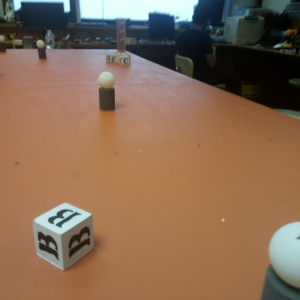blockA: (106, 54, 113, 62)
blockB: (32, 202, 95, 270)
blockC: (120, 55, 131, 66)
corner: (114, 19, 129, 52)
obstacle: (259, 214, 300, 300), (98, 70, 117, 112), (36, 39, 47, 60), (1, 36, 8, 53)
